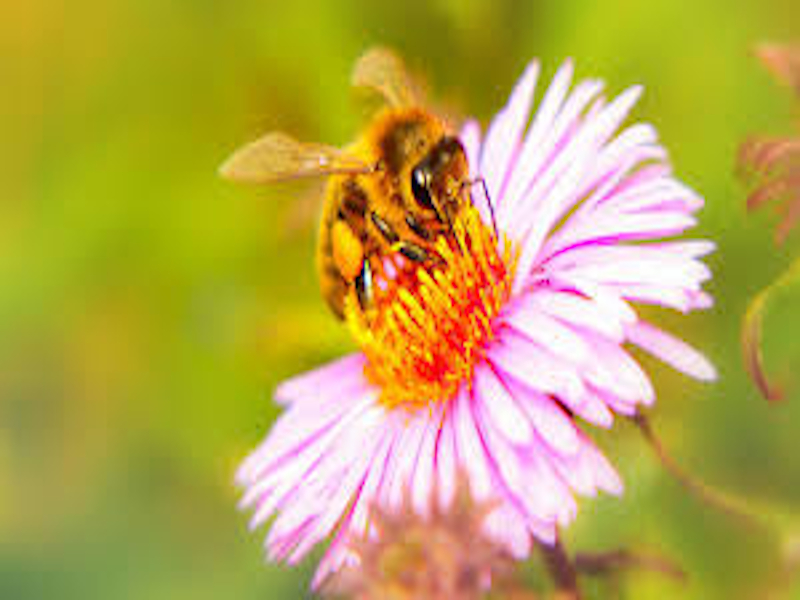abeja: (191, 28, 508, 334)
